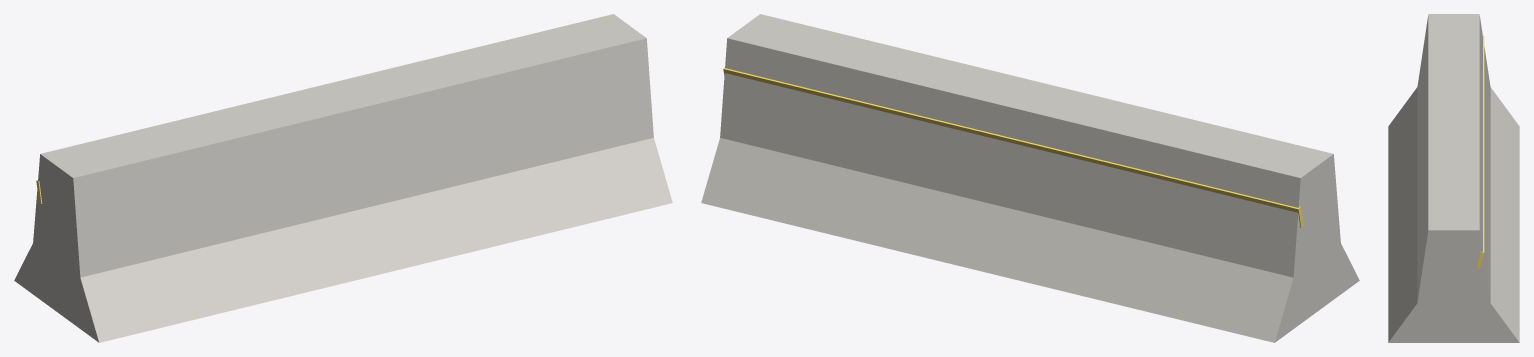
The model's file is Barrier.fbx.
3 views of the same model, side by side, from view 1: azimuth 30°, elevation 25°; view 2: azimuth 150°, elevation 25°; view 3: azimuth 270°, elevation 25° (orthographic). The views are drawn at different scales.
Parts seen in each view (by area): view 1: Concrete; view 2: Concrete, Yellow.001; view 3: Concrete, Yellow.001.
Boxes of the visible parts, x1,y1,x2,y2 form: Concrete: (14, 14, 672, 342); Concrete: (701, 14, 1359, 342); Yellow.001: (723, 67, 1303, 227); Concrete: (1388, 14, 1519, 342); Yellow.001: (1476, 35, 1484, 268).
Size of the model in its own units: 702 by 170 by 180.
